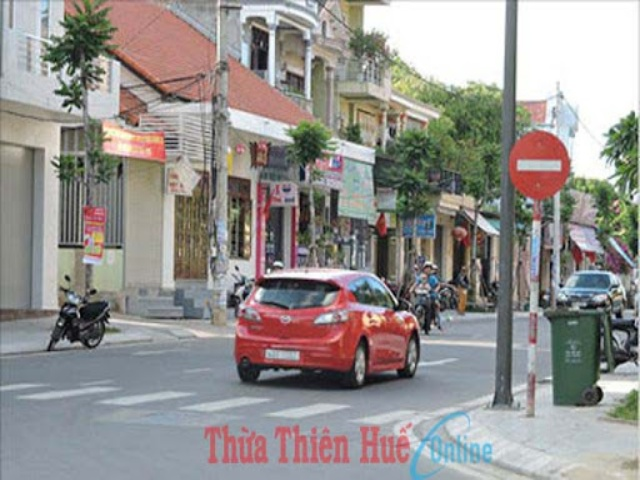Cam_di_nguoc_chieu: (506, 129, 572, 199)
Xe_hoi: (232, 269, 422, 391)
